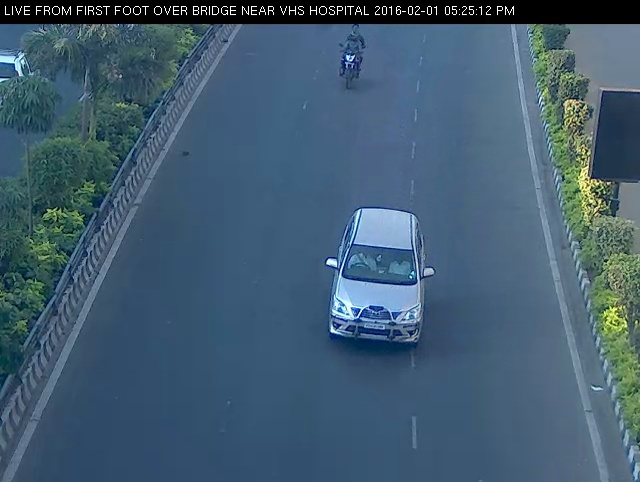Car: (313, 198, 442, 358)
Person: (331, 18, 371, 93)
